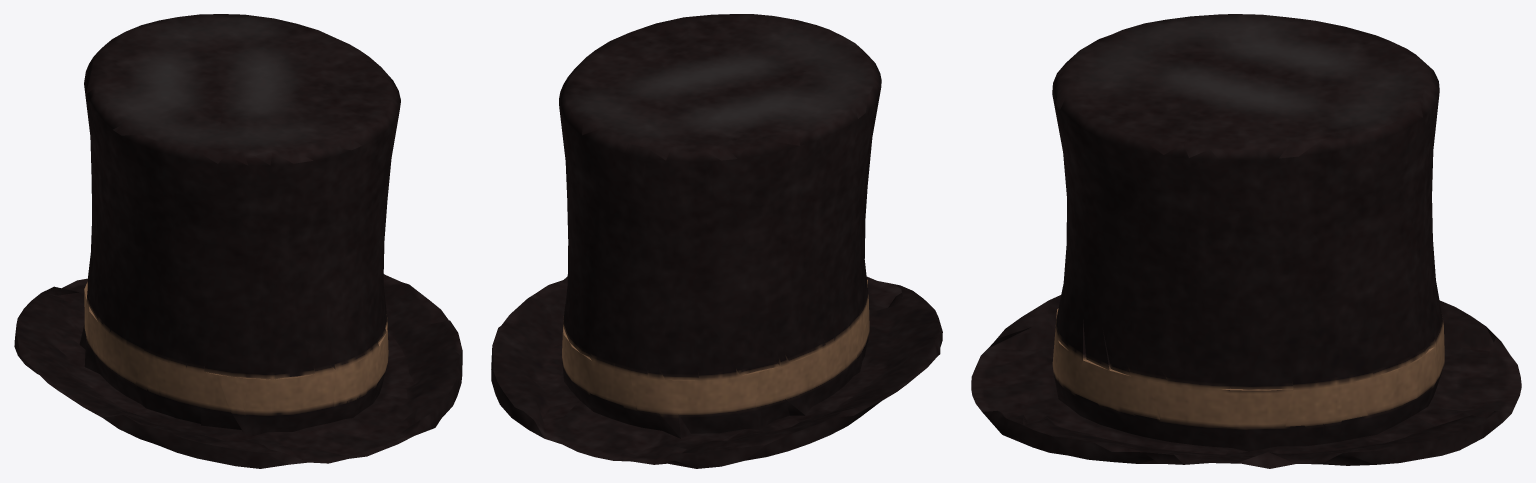
Rendered from wear_tophat2.glb.
3 renders of one model, left to right at view 1: azimuth 30°, elevation 25°; view 2: azimuth 150°, elevation 25°; view 3: azimuth 270°, elevation 25°, orthographic. The views are drawn at different scales.
Parts seen in each view (by area): view 1: mesh; view 2: mesh; view 3: mesh.
Boxes of the visible parts, x1=… form: mesh: x1=14, y1=14, x2=462, y2=468; mesh: x1=491, y1=14, x2=942, y2=468; mesh: x1=971, y1=14, x2=1521, y2=468.
Bounding box in the file's own units: 0.245 × 0.18 × 0.2868.
Materials: 1 (1 with a texture image).
